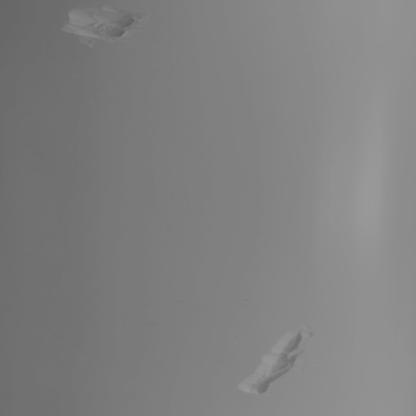sunshang: (233, 329, 309, 395), (60, 1, 143, 43)
